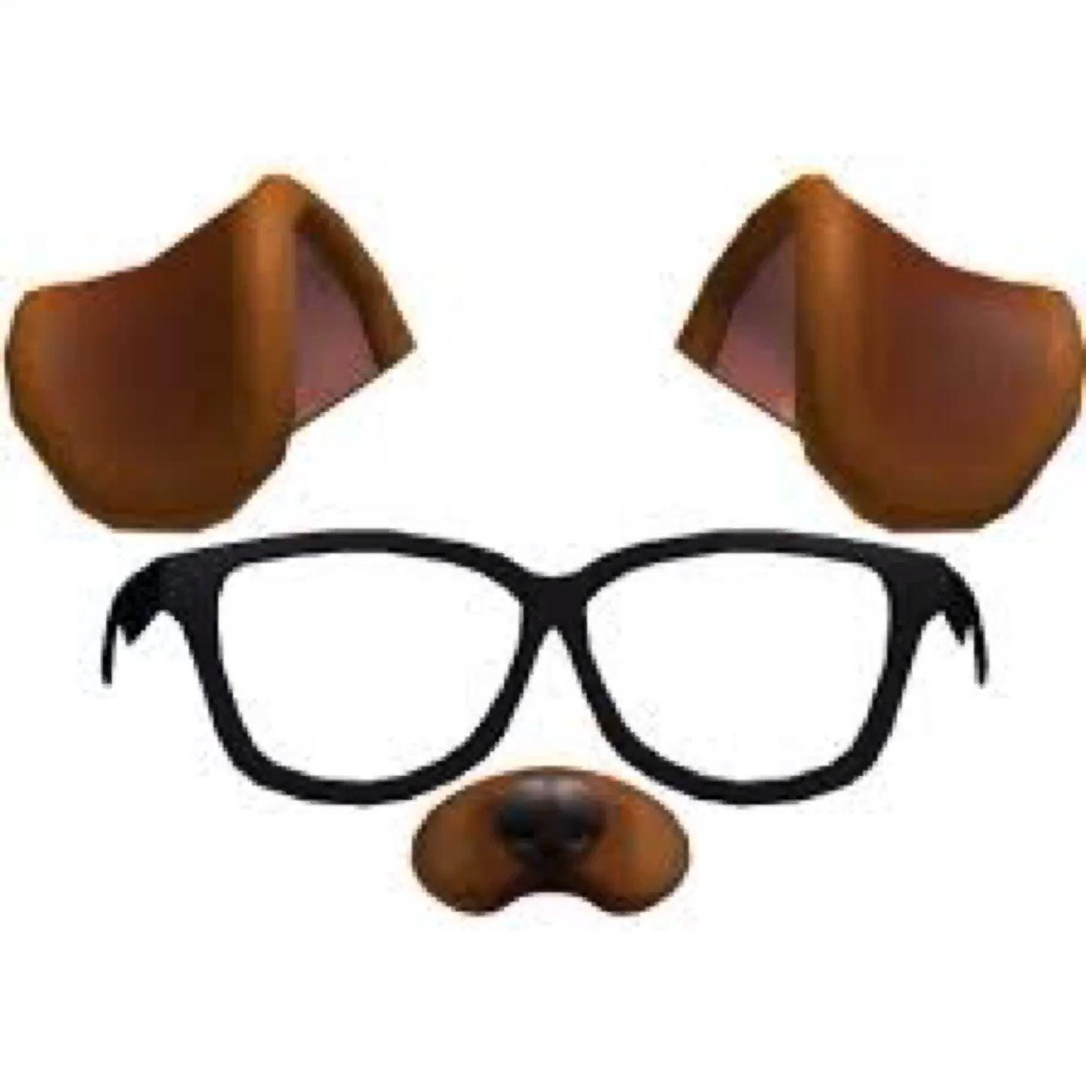non-dog: (2, 169, 1085, 919)
